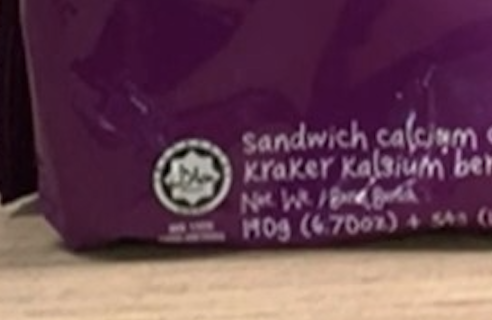halal: (166, 154, 221, 201)
